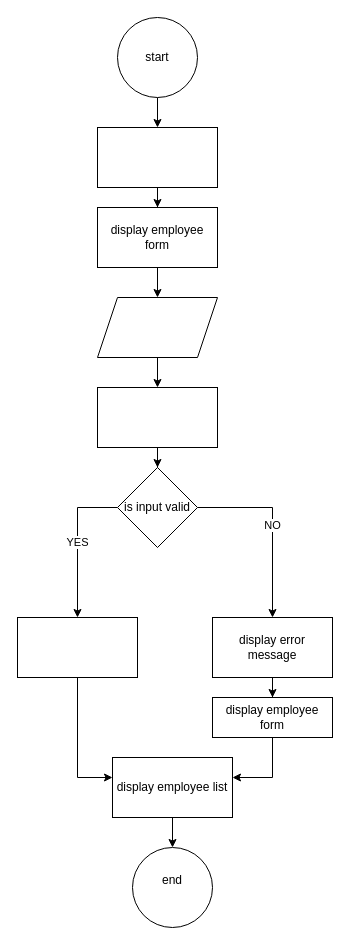
This 350x945 diagram has some shape labels left out. The box of each missing label's shape, as (x1, y1, x2, y2) in pixels:
click add employee: (96, 126, 218, 188)
enter employee information: (96, 296, 218, 358)
save employee record: (16, 616, 138, 678)
validate input: (96, 386, 218, 448)
